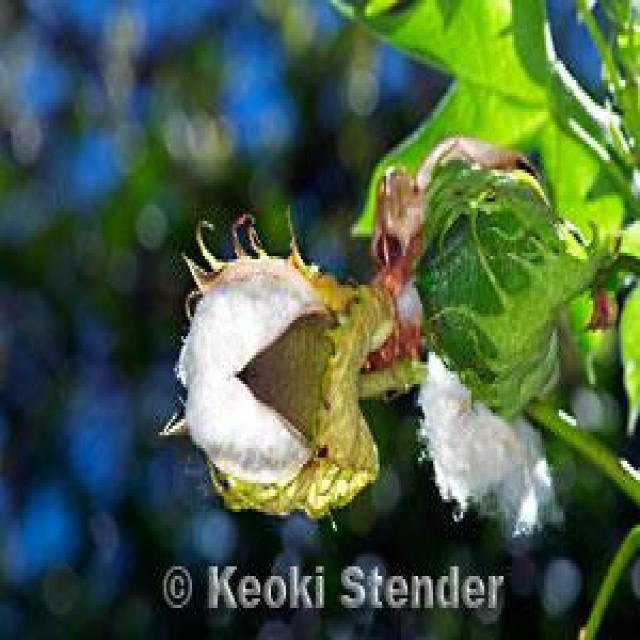Late_blight: (150, 193, 390, 527)
